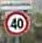limite 40: (4, 11, 29, 36)
